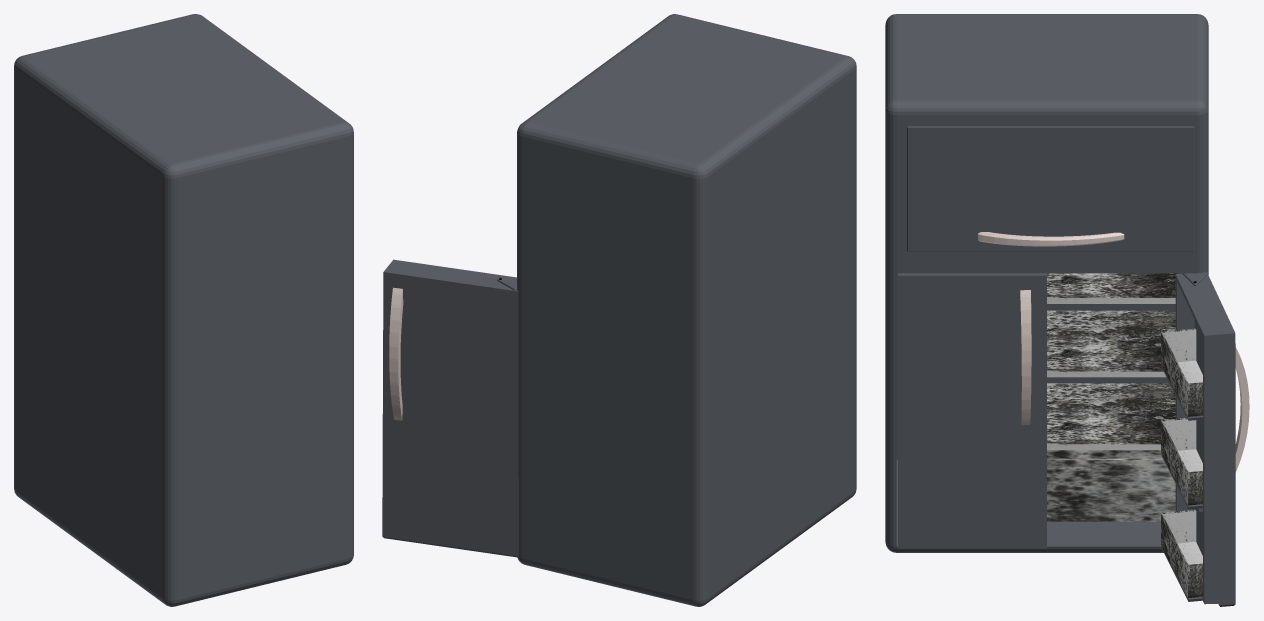
The model's file is Fridge.fbx.
3 views of the same model, side by side, from view 1: azimuth 30°, elevation 25°; view 2: azimuth 150°, elevation 25°; view 3: azimuth 270°, elevation 25° (orthographic). The views are drawn at different scales.
Parts seen in each view (by area): view 1: Cube; view 2: Cube, Cube.005; view 3: Cube, Cube.004, Cube.003, Cube.005, Cube.010, Cube.002, Cube.001, Cube.007, Cube.009, Cube.014, Cube.012.
Part boxes in pixels (box(x1,y1,x2,y2)): Cube: box(14, 14, 353, 606); Cube: box(517, 14, 856, 606); Cube.005: box(382, 259, 518, 557); Cube: box(885, 14, 1208, 552); Cube.004: box(898, 273, 1046, 548); Cube.003: box(907, 126, 1194, 251); Cube.005: box(1175, 273, 1249, 606); Cube.010: box(1047, 450, 1175, 521); Cube.002: box(1047, 383, 1175, 450); Cube.001: box(1047, 310, 1175, 377); Cube.007: box(1047, 273, 1181, 303); Cube.009: box(1161, 509, 1202, 597); Cube.014: box(1161, 328, 1202, 416); Cube.012: box(1161, 418, 1202, 505).
Bounding box in the file's own units: 328 × 445 × 325.
